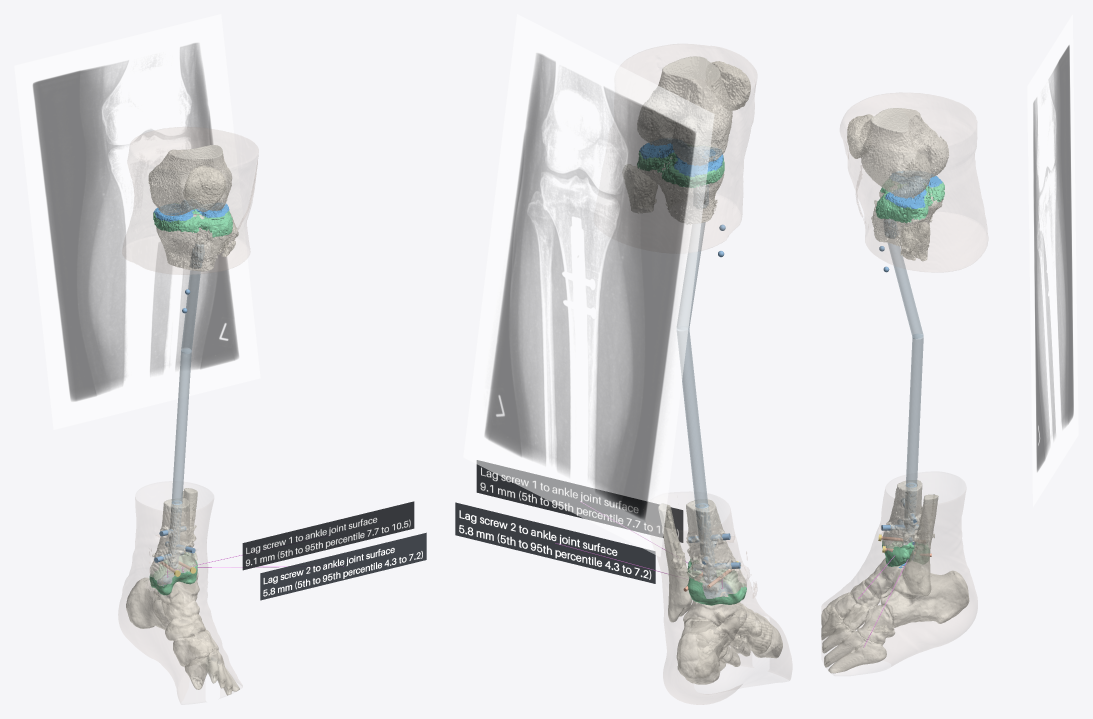
The picture shows the model from 3 angles, left to right: view 1: azimuth 30°, elevation 25°; view 2: azimuth 150°, elevation 25°; view 3: azimuth 270°, elevation 25°; orthographic projection. The views are drawn at different scales.
Visible parts, largest first — view 1: radiograph, skin, implant_8, tibia, implant_16, tarsal, femur, nail_modelled, patella, metatarsal, capsule_band_knee, nail (+3 smaller); view 2: radiograph, skin, femur, implant_17, implant_9, tibia, tarsal, nail_modelled, fibula, capsule_band_knee, nail, metatarsal (+3 smaller); view 3: radiograph, skin, tarsal, femur, tibia, fibula, nail_modelled, metatarsal, capsule_band_knee, articular_surface_knee, nail, patella (+1 smaller).
Boxes of the visible parts, left/top/right/bottom form: radiograph: left=14, top=14, right=260, bottom=429; skin: left=118, top=127, right=258, bottom=702; implant_8: left=242, top=501, right=414, bottom=570; tibia: left=150, top=210, right=230, bottom=595; implant_16: left=260, top=532, right=426, bottom=600; tarsal: left=126, top=575, right=218, bottom=666; femur: left=148, top=145, right=232, bottom=215; nail_modelled: left=171, top=270, right=200, bottom=504; patella: left=183, top=165, right=226, bottom=212; metatarsal: left=184, top=648, right=239, bottom=695; capsule_band_knee: left=153, top=209, right=232, bottom=237; nail: left=168, top=244, right=204, bottom=569; radiograph: left=463, top=14, right=714, bottom=556; skin: left=621, top=44, right=791, bottom=704; femur: left=637, top=56, right=732, bottom=165; implant_17: left=455, top=502, right=655, bottom=583; implant_9: left=476, top=460, right=683, bottom=542; tibia: left=637, top=151, right=746, bottom=604; tarsal: left=676, top=583, right=772, bottom=684; nail_modelled: left=677, top=222, right=708, bottom=508; fibula: left=622, top=164, right=692, bottom=622; capsule_band_knee: left=637, top=151, right=724, bottom=187; nail: left=693, top=184, right=716, bottom=583; metatarsal: left=711, top=619, right=782, bottom=671; radiograph: left=1027, top=15, right=1078, bottom=506; skin: left=822, top=93, right=987, bottom=666; tarsal: left=826, top=558, right=969, bottom=644; femur: left=860, top=108, right=948, bottom=198; tibia: left=871, top=186, right=943, bottom=566; fibula: left=900, top=221, right=938, bottom=596; nail_modelled: left=887, top=242, right=923, bottom=487; metatarsal: left=821, top=607, right=886, bottom=673; capsule_band_knee: left=875, top=178, right=944, bottom=223; articular_surface_knee: left=885, top=171, right=942, bottom=208; nail: left=884, top=219, right=916, bottom=544; patella: left=847, top=114, right=873, bottom=158.
Bounding box in the file's own units: 0.3373 × 0.6058 × 0.2259.
15 materials, 3 textured.
